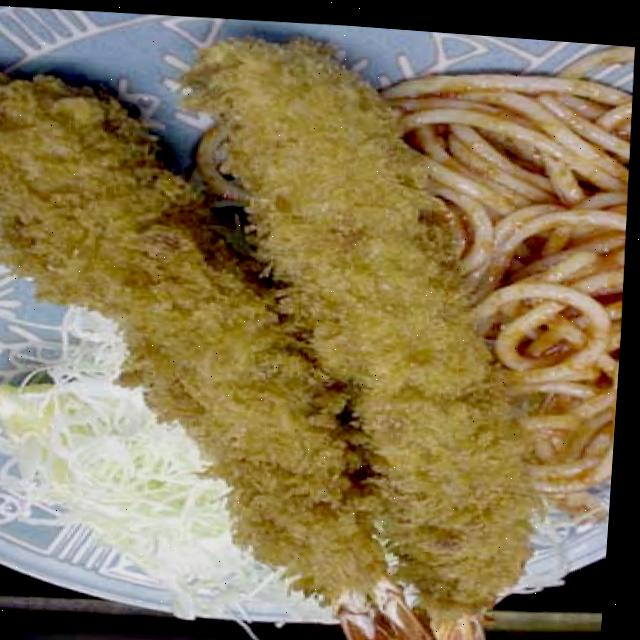炸货点心: (0, 1, 585, 640)
熟制海鲜: (0, 1, 585, 640)
